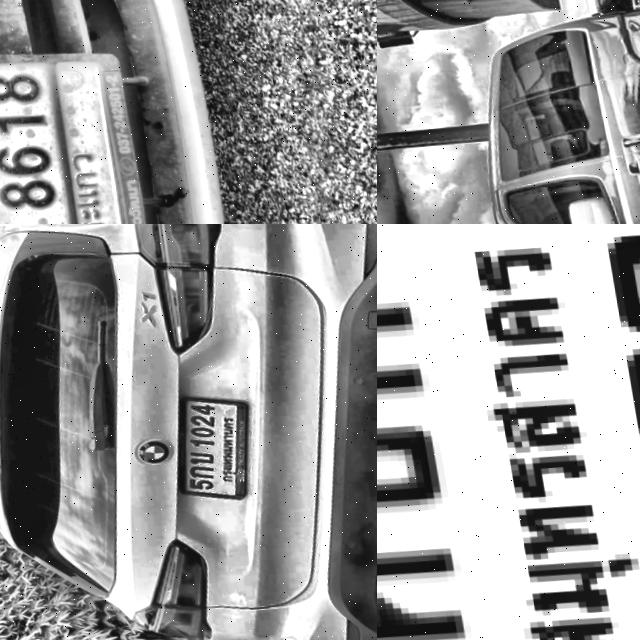license-plate: (377, 224, 640, 640), (0, 45, 168, 224), (148, 386, 257, 505)
